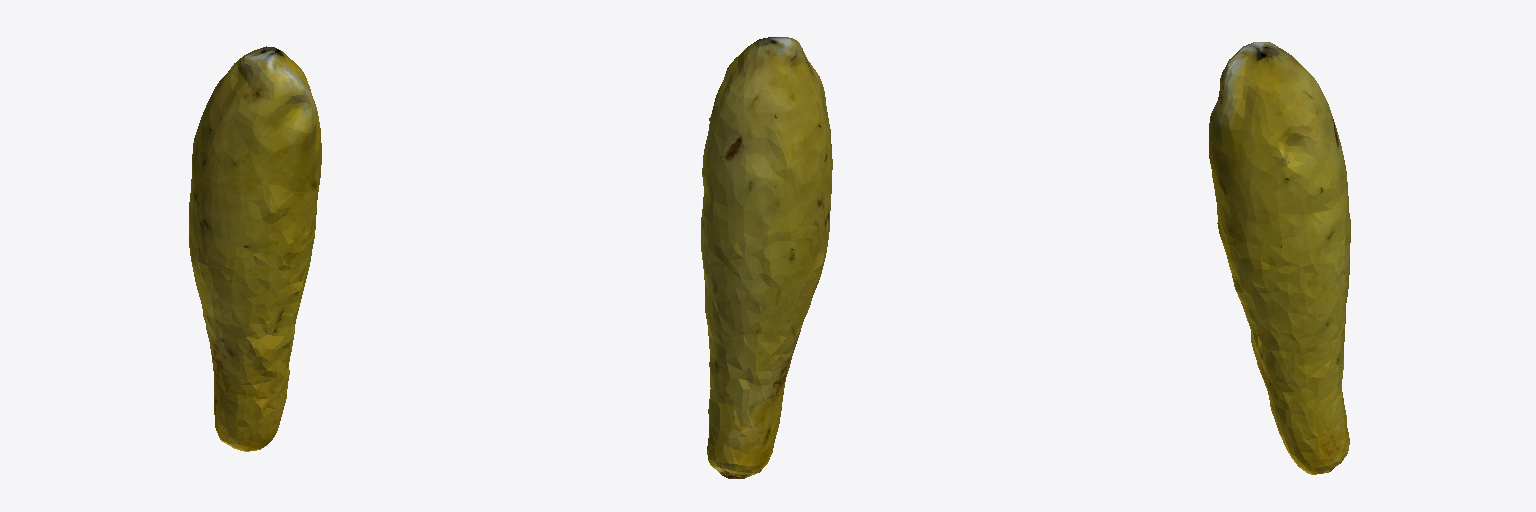
The picture shows the model from 3 angles: view 1: azimuth 30°, elevation 25°; view 2: azimuth 150°, elevation 25°; view 3: azimuth 270°, elevation 25°; orthographic projection.
Parts seen in each view (by area): view 1: squash; view 2: squash; view 3: squash.
Boxes of the visible parts, x1=… form: squash: x1=189, y1=46, x2=321, y2=451; squash: x1=701, y1=37, x2=832, y2=478; squash: x1=1209, y1=42, x2=1350, y2=474.
Bounding box in the file's own units: 0.4791 × 1.69 × 0.5199.
1 materials, 1 textured.